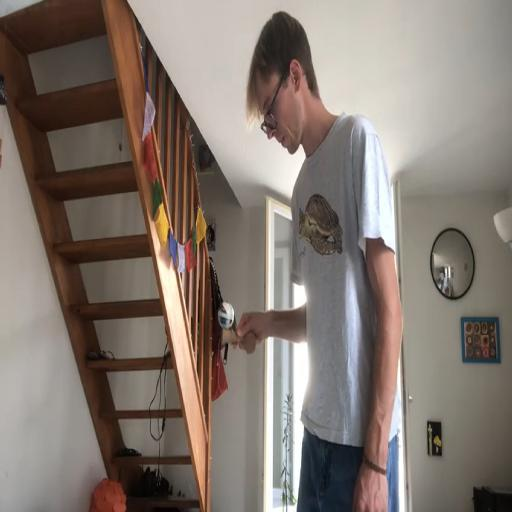kendama_ball: (218, 302, 234, 328)
